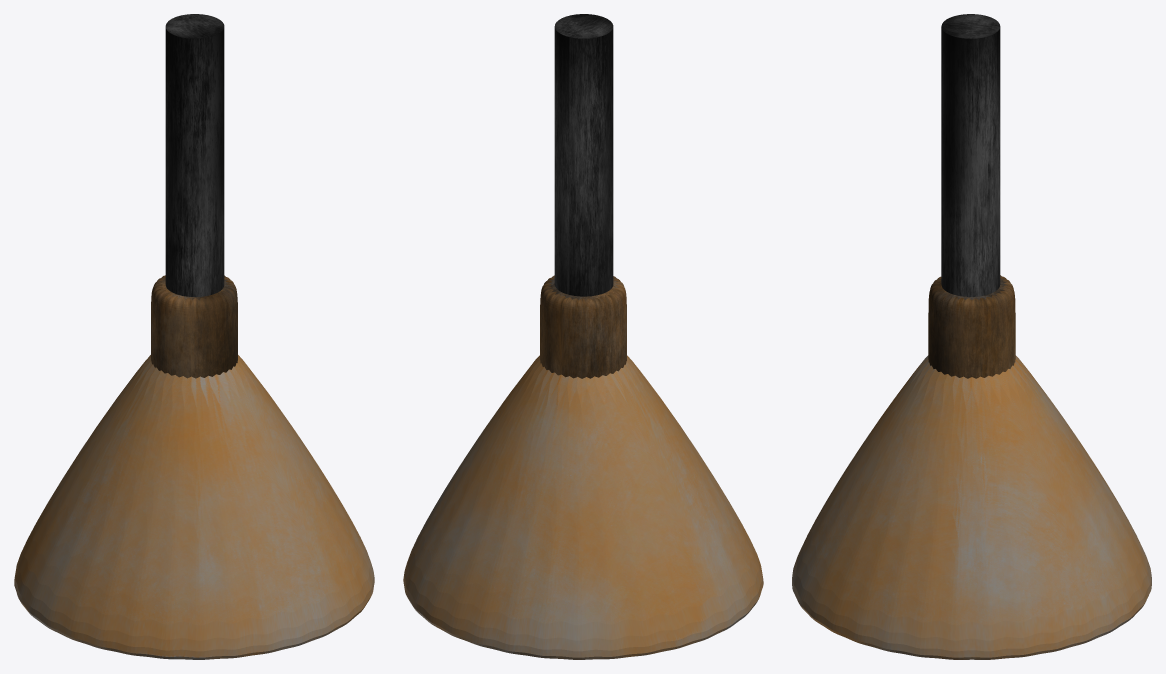
Rendered from light.fbx.
3 renders of one model, left to right at view 1: azimuth 30°, elevation 25°; view 2: azimuth 150°, elevation 25°; view 3: azimuth 270°, elevation 25°, orthographic.
Parts seen in each view (by area): view 1: Cone, Cylinder.001, Cylinder; view 2: Cone, Cylinder.001, Cylinder; view 3: Cone, Cylinder.001, Cylinder.
Boxes of the visible parts, bbox=[...] form: Cone: bbox=[14, 355, 374, 659]; Cylinder.001: bbox=[165, 14, 224, 296]; Cylinder: bbox=[151, 275, 237, 378]; Cone: bbox=[403, 355, 763, 659]; Cylinder.001: bbox=[554, 14, 613, 296]; Cylinder: bbox=[540, 275, 626, 378]; Cone: bbox=[792, 355, 1151, 659]; Cylinder.001: bbox=[941, 14, 1000, 296]; Cylinder: bbox=[928, 275, 1015, 378].
Size of the model in its own units: 179 by 332 by 179.
5 materials, 4 textured.
